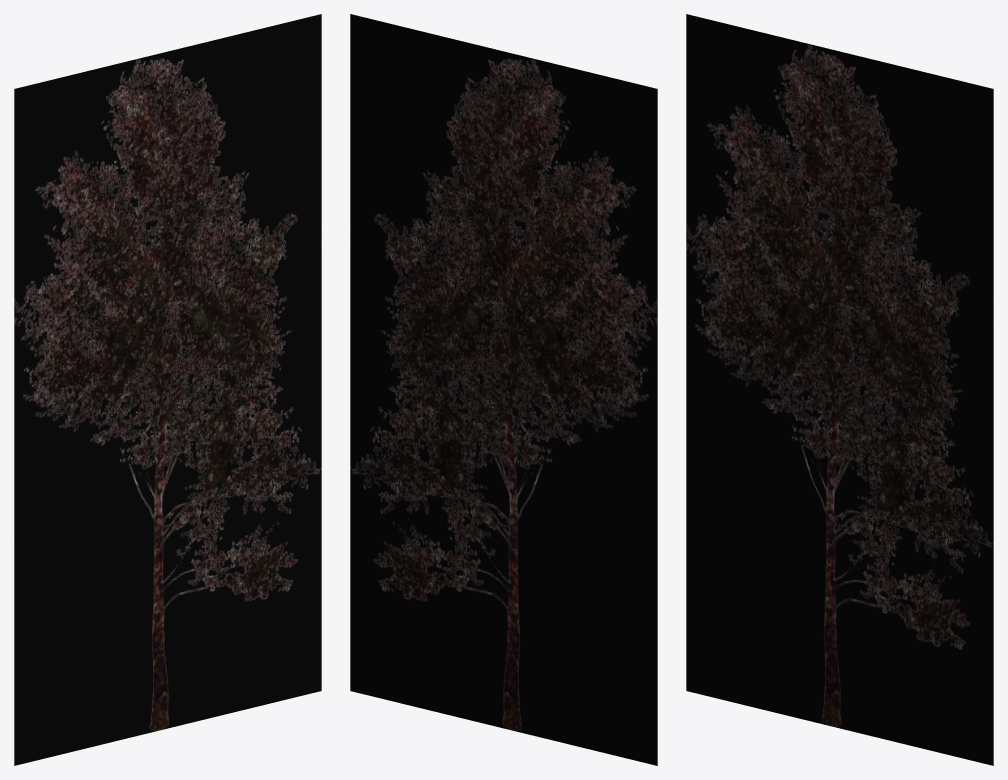
Rendered from 血桦树1平面.gltf.
3 views of the same model, side by side, from view 1: azimuth 30°, elevation 25°; view 2: azimuth 150°, elevation 25°; view 3: azimuth 330°, elevation 25° (orthographic).
Parts seen in each view (by area): view 1: 平面; view 2: 平面; view 3: 平面.
Part boxes in pixels (x1,y1,x2,y2): 平面: [14, 14, 321, 765]; 平面: [350, 14, 657, 765]; 平面: [686, 14, 993, 765].
Bounding box in the file's own units: 4.69 × 9.87 × 0.00341.
Materials: 1 (1 with a texture image).
